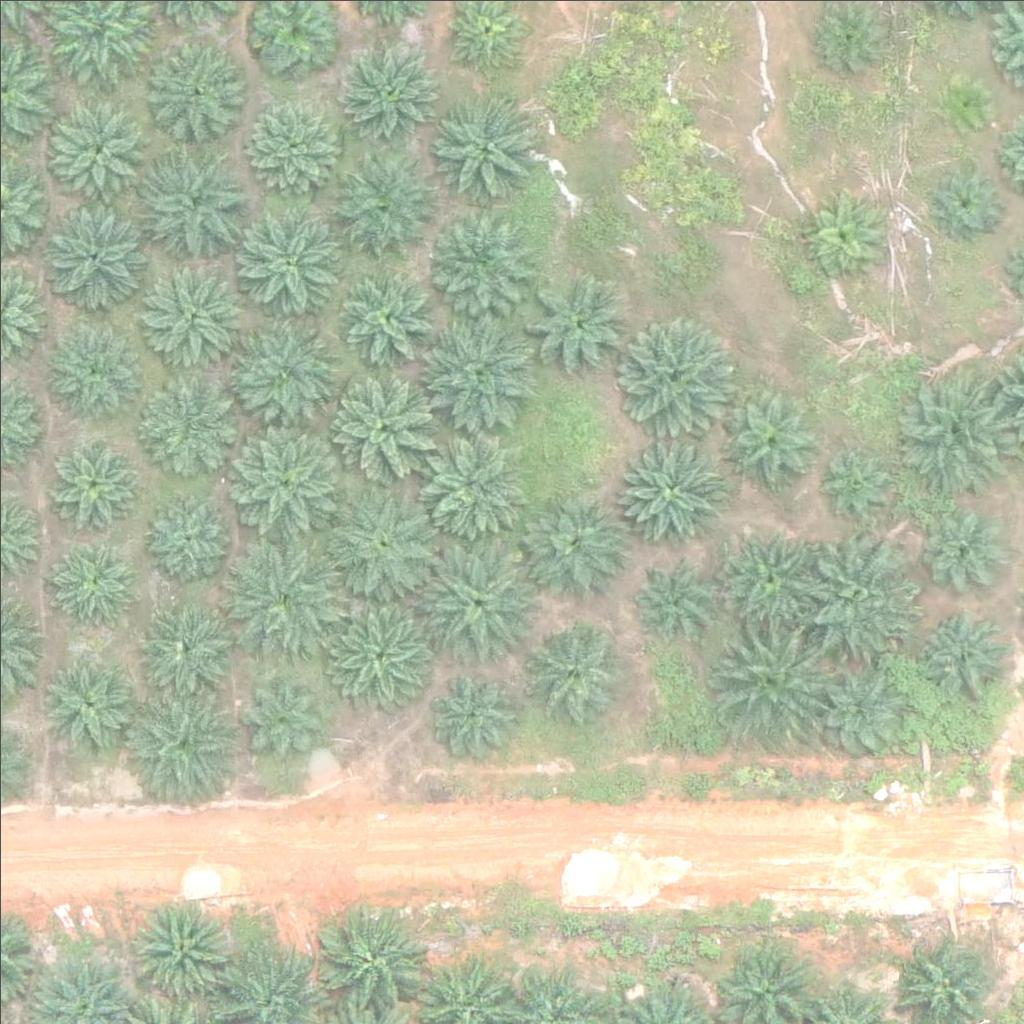Kelapa_Sawit: (225, 420, 338, 534), (424, 87, 537, 201), (621, 315, 734, 429), (895, 366, 1008, 480), (134, 256, 247, 370), (35, 199, 148, 312), (225, 536, 338, 649), (224, 202, 337, 315), (327, 366, 440, 479), (327, 595, 440, 708), (413, 425, 526, 538), (424, 202, 537, 315), (313, 901, 426, 1014), (226, 316, 338, 430), (329, 488, 441, 602), (126, 693, 238, 807), (136, 144, 248, 258), (416, 546, 528, 659), (419, 310, 531, 423), (611, 430, 723, 543), (714, 617, 826, 730), (804, 538, 916, 651), (43, 310, 155, 423), (136, 363, 248, 476), (239, 96, 339, 197), (338, 39, 438, 140), (422, 664, 522, 765), (528, 276, 628, 377), (527, 491, 627, 592), (720, 531, 820, 632), (814, 664, 914, 765), (40, 433, 140, 534), (136, 594, 236, 695), (149, 35, 249, 136), (52, 96, 152, 197), (330, 154, 430, 254), (335, 266, 435, 366), (523, 615, 623, 715), (719, 390, 819, 490), (44, 536, 144, 636), (37, 660, 137, 760), (132, 898, 232, 998), (921, 605, 1008, 694), (234, 674, 321, 762), (627, 553, 714, 641), (814, 436, 901, 524), (921, 507, 1008, 595), (801, 186, 888, 274), (139, 489, 226, 577), (929, 160, 1004, 236), (943, 78, 993, 128)
